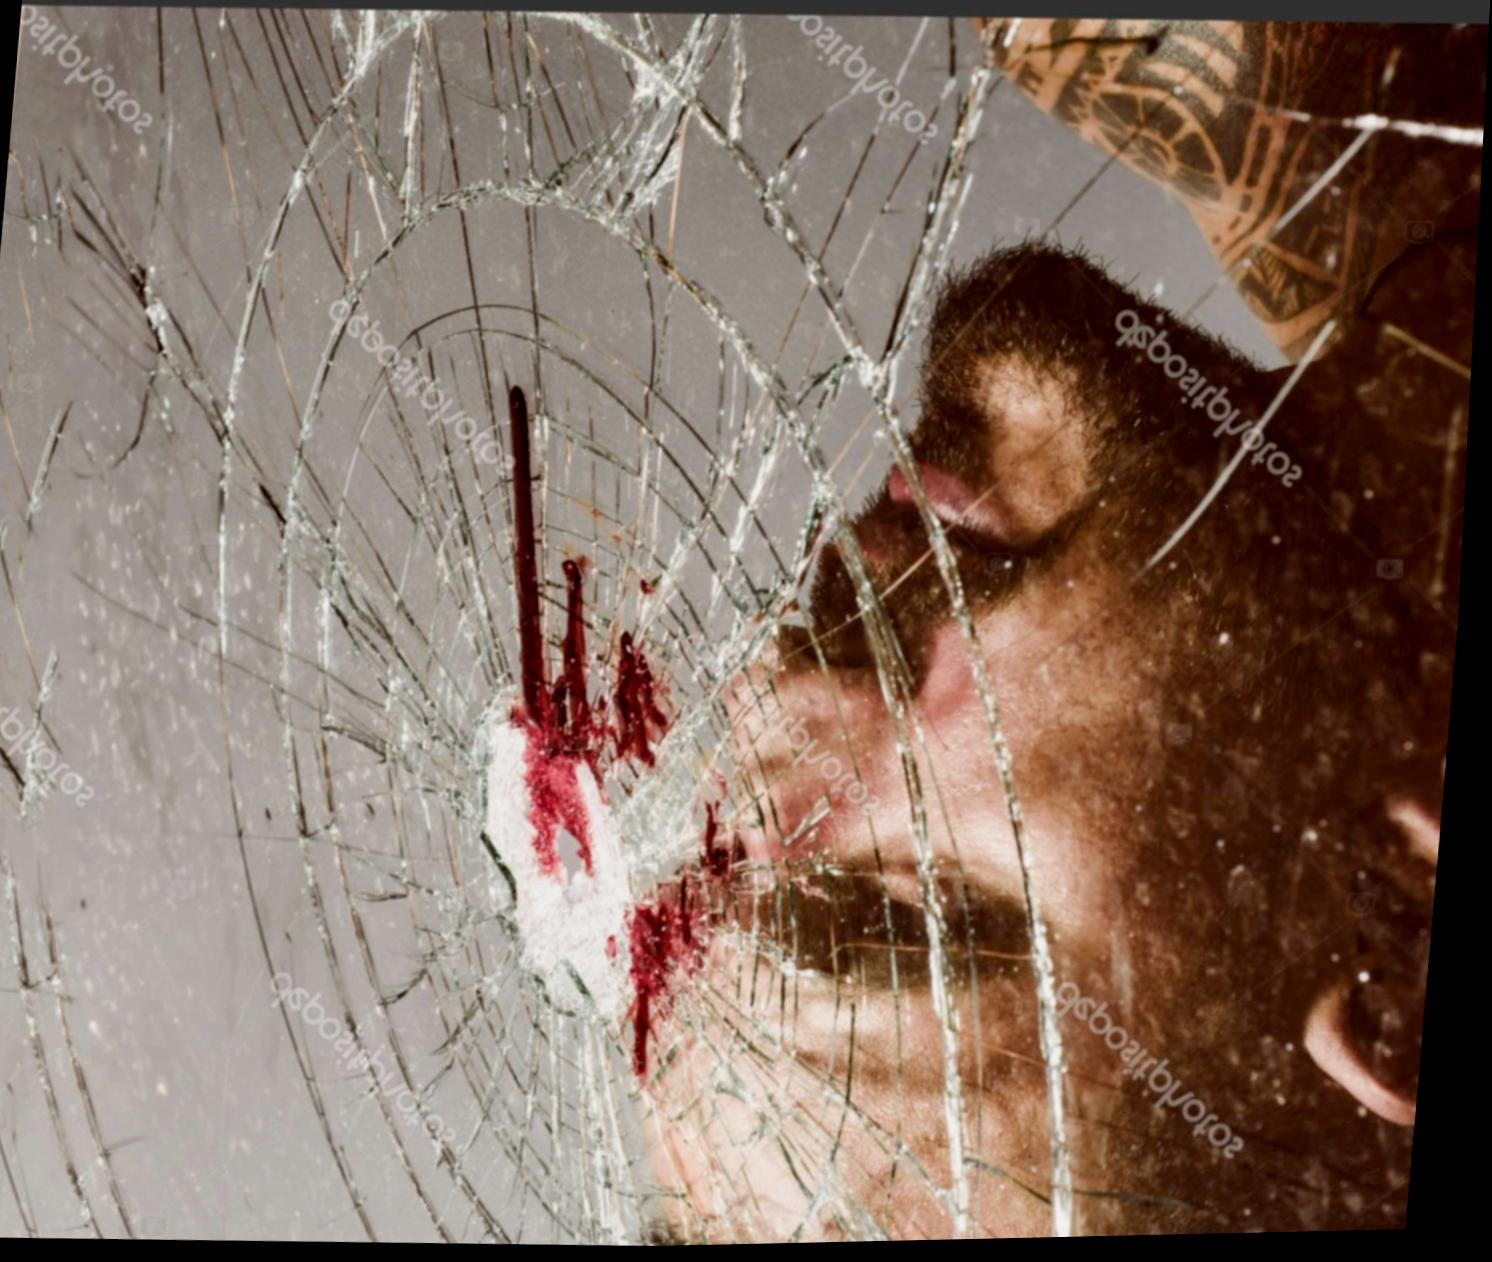Fire: (511, 388, 682, 889), (632, 875, 733, 1094), (712, 804, 745, 890)
